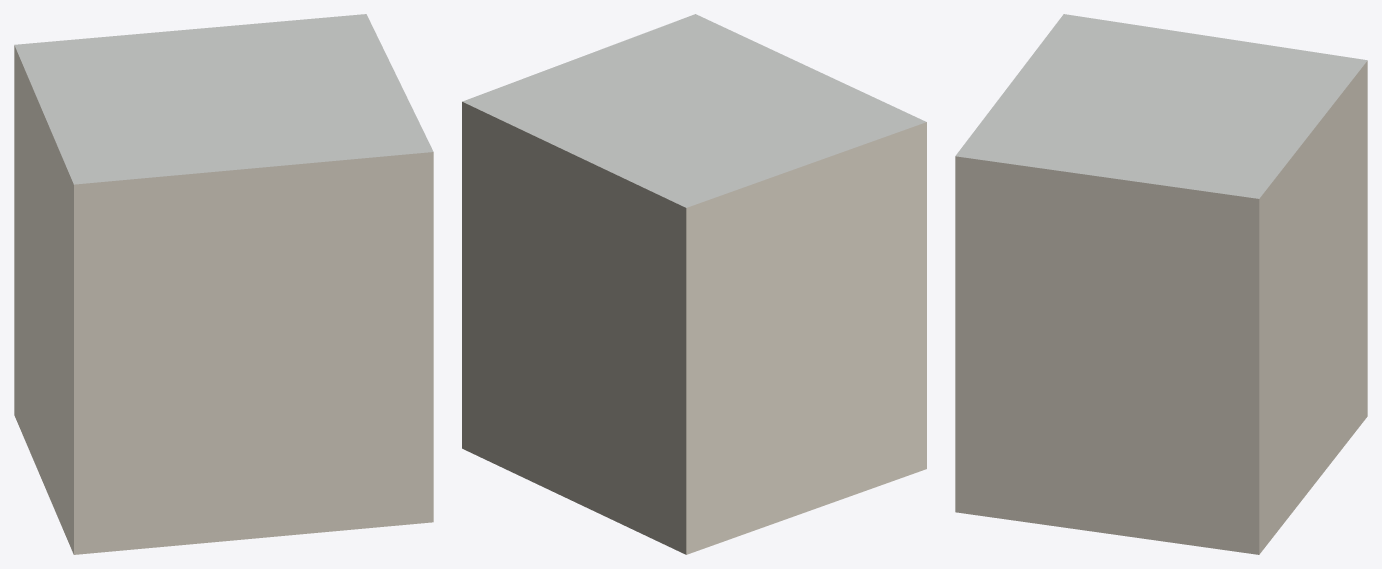
Rendered from bolak_2_-5.glb.
3 views of the same model, side by side, from view 1: azimuth 30°, elevation 25°; view 2: azimuth 150°, elevation 25°; view 3: azimuth 270°, elevation 25° (orthographic). The views are drawn at different scales.
Parts seen in each view (by area): view 1: Devor_Suvoq-col, Tom_Shifer; view 2: Devor_Suvoq-col, Tom_Shifer; view 3: Devor_Suvoq-col, Tom_Shifer.
Boxes of the visible parts, left/top/right/bottom form: Devor_Suvoq-col: left=14, top=45, right=433, bottom=554; Tom_Shifer: left=14, top=14, right=433, bottom=184; Devor_Suvoq-col: left=462, top=101, right=926, bottom=554; Tom_Shifer: left=462, top=14, right=926, bottom=207; Devor_Suvoq-col: left=955, top=61, right=1367, bottom=554; Tom_Shifer: left=955, top=14, right=1367, bottom=198.
Size of what is drawn, in the model's own units: 4.46 by 4 by 4.2.
